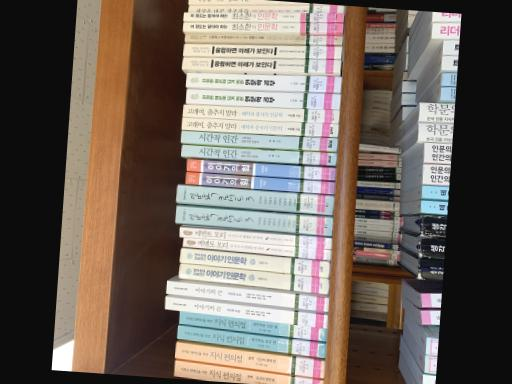book-spine: (175, 342, 324, 377), (165, 296, 327, 328), (165, 280, 329, 311), (177, 324, 325, 357), (178, 262, 329, 294), (176, 184, 333, 214), (175, 205, 332, 234), (179, 310, 326, 340), (179, 248, 330, 276), (173, 360, 323, 384), (182, 237, 331, 259), (185, 171, 335, 192), (186, 159, 336, 180), (181, 116, 338, 136), (181, 144, 337, 164), (185, 72, 341, 92), (179, 227, 331, 247), (180, 130, 337, 149), (185, 89, 340, 108), (182, 104, 339, 121), (181, 56, 342, 71), (182, 43, 342, 57), (183, 11, 344, 21), (184, 33, 342, 42), (182, 22, 343, 30), (188, 4, 343, 11), (188, 0, 307, 3)
